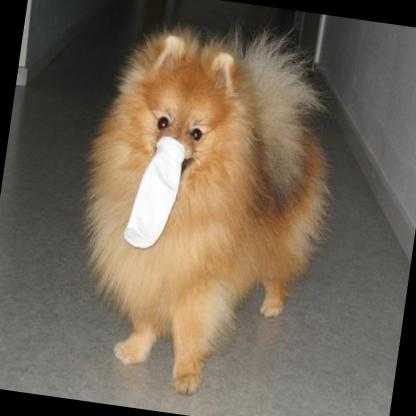Pomeranian: (57, 6, 352, 410)
